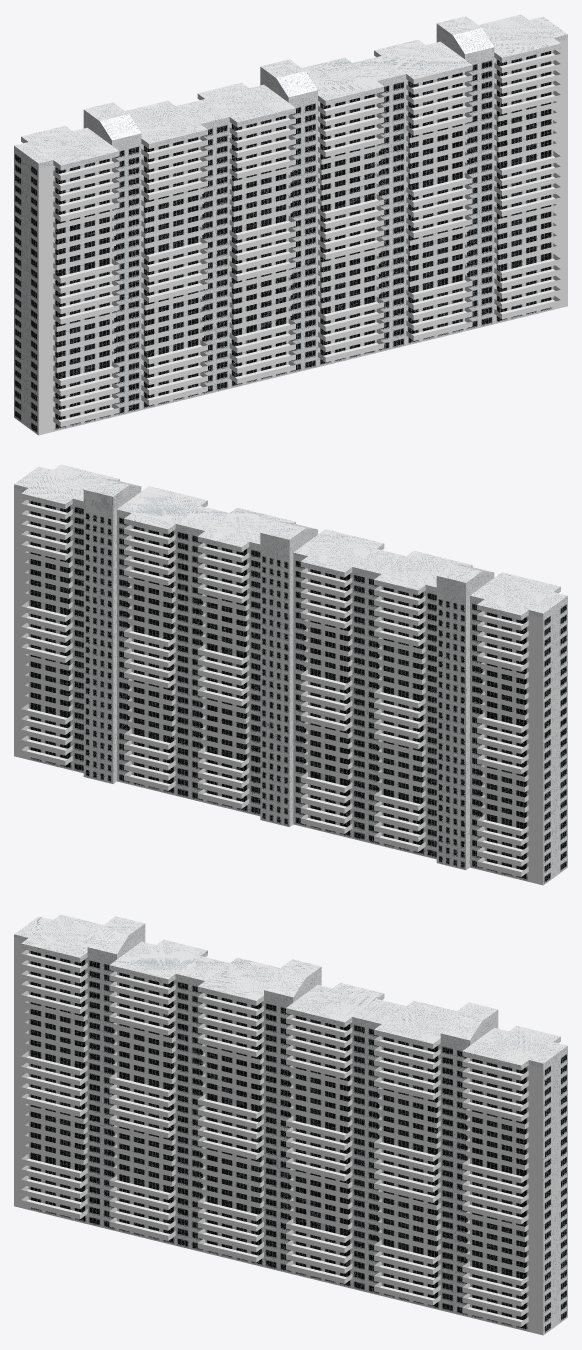
3 renders of one model, top to bottom at view 1: azimuth 30°, elevation 25°; view 2: azimuth 150°, elevation 25°; view 3: azimuth 330°, elevation 25°, orthographic.
Visible parts, largest first — view 1: SketchUp (×72); view 2: SketchUp (×18); view 3: SketchUp (×72).
Part boxes in pixels (bbox=[...]): SketchUp (×72): bbox=[14, 14, 567, 435]; SketchUp (×18): bbox=[14, 464, 567, 885]; SketchUp (×72): bbox=[14, 914, 567, 1335].
Size of the model in its own units: 6378 by 827 by 3307.
